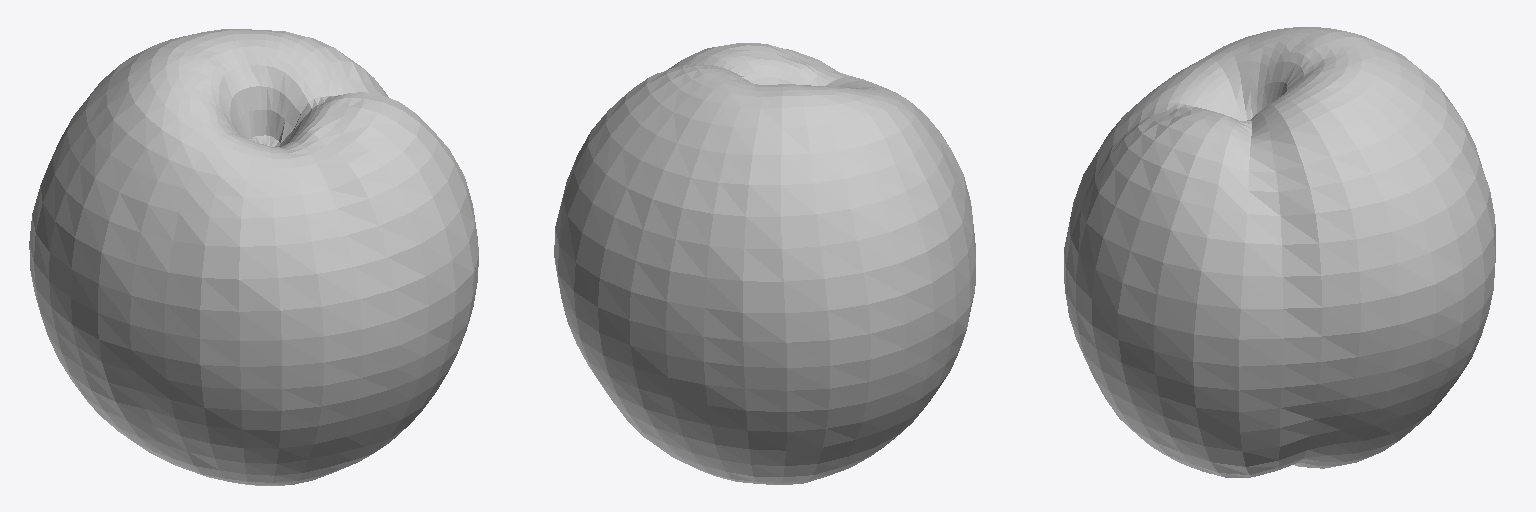
The model's file is peach.obj.
3 views of the same model, side by side, from view 1: azimuth 30°, elevation 25°; view 2: azimuth 150°, elevation 25°; view 3: azimuth 270°, elevation 25° (orthographic).
Visible parts, largest first — view 1: peach; view 2: peach; view 3: peach.
Boxes of the visible parts, x1=… form: peach: x1=29, y1=29, x2=478, y2=485; peach: x1=554, y1=43, x2=975, y2=484; peach: x1=1064, y1=27, x2=1495, y2=477.
Bounding box in the file's own units: 2.23 × 2.24 × 2.24.